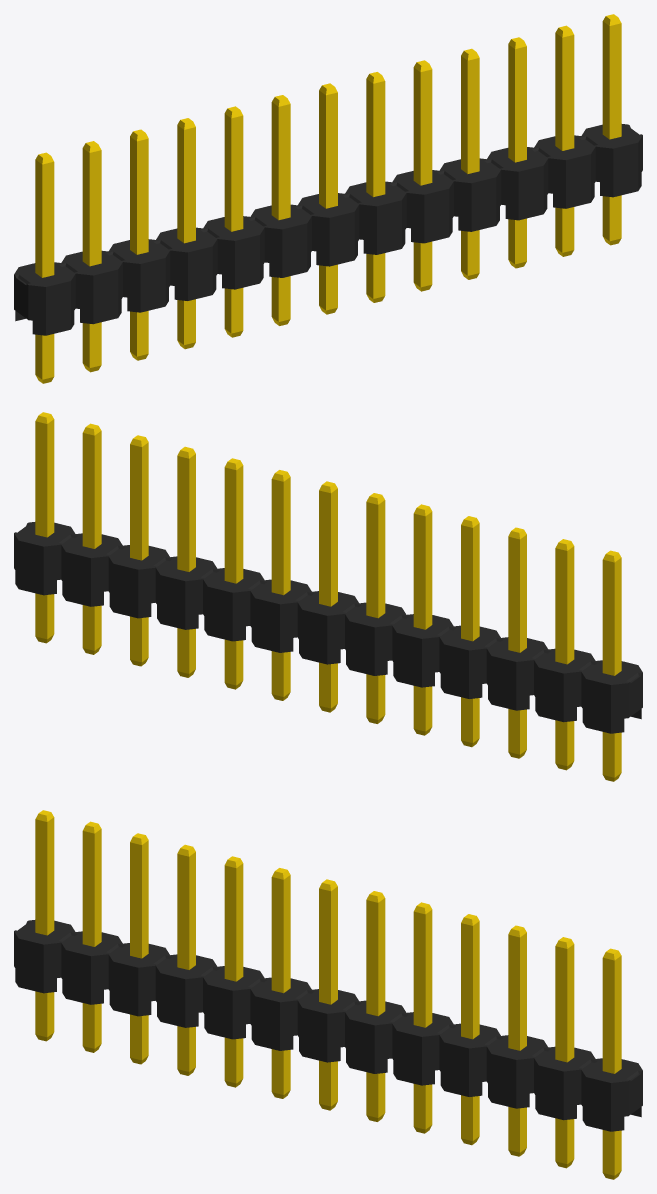
File: PLS13.glb
3 views of the same model, one above another, from view 1: azimuth 30°, elevation 25°; view 2: azimuth 150°, elevation 25°; view 3: azimuth 330°, elevation 25° (orthographic).
Parts seen in each view (by area): view 1: PLS (DS1021 CONNFLY); view 2: PLS (DS1021 CONNFLY); view 3: PLS (DS1021 CONNFLY).
Boxes of the visible parts, <box> form: PLS (DS1021 CONNFLY): <box>14,14,642,383</box>; PLS (DS1021 CONNFLY): <box>14,412,642,781</box>; PLS (DS1021 CONNFLY): <box>14,810,642,1179</box>.
Size of the model in its own units: 0.033 by 0.0116 by 0.00254.
